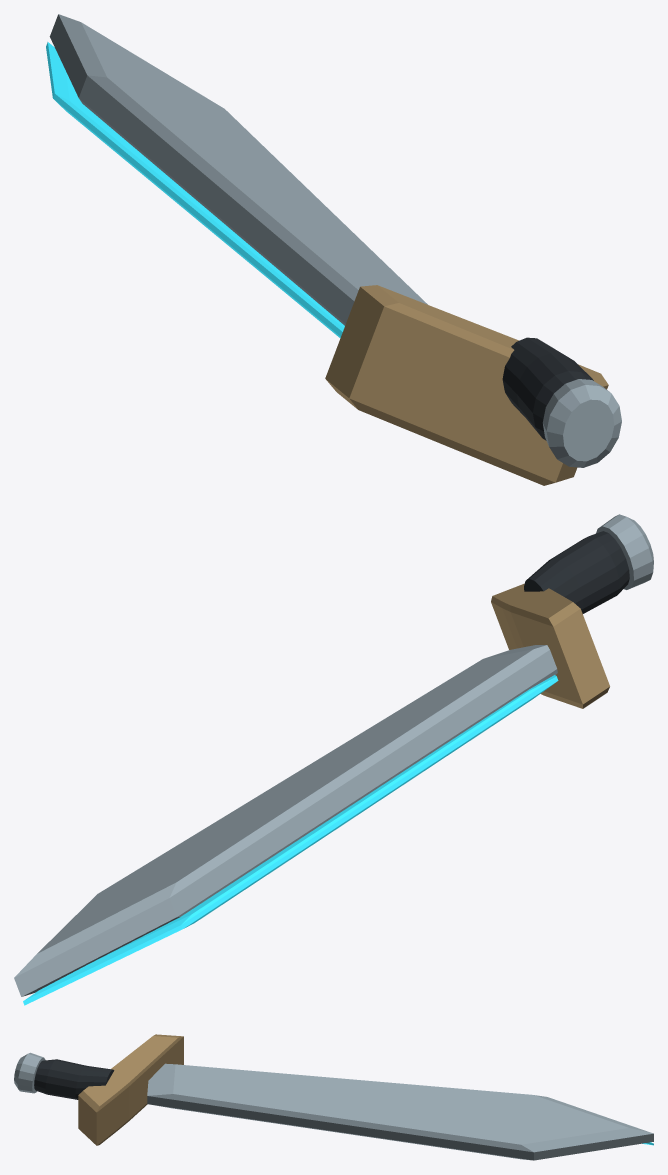
The model's file is weapon-high.glb.
3 renders of one model, top to bottom at view 1: azimuth 30°, elevation 25°; view 2: azimuth 150°, elevation 25°; view 3: azimuth 270°, elevation 25°, orthographic. The views are drawn at different scales.
Parts seen in each view (by area): view 1: CW_Relic_weapon; view 2: CW_Relic_weapon; view 3: CW_Relic_weapon.
Boxes of the visible parts, x1,y1,x2,y2 form: CW_Relic_weapon: [46, 14, 621, 485]; CW_Relic_weapon: [14, 514, 653, 1005]; CW_Relic_weapon: [14, 1034, 653, 1160].
Size of the model in its own units: 0.2068 by 0.1324 by 0.9288.
